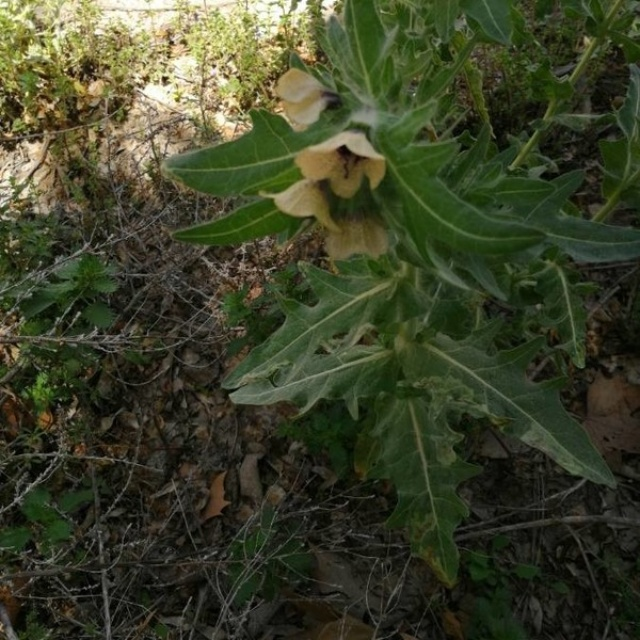obstacle: (176, 61, 623, 563)
